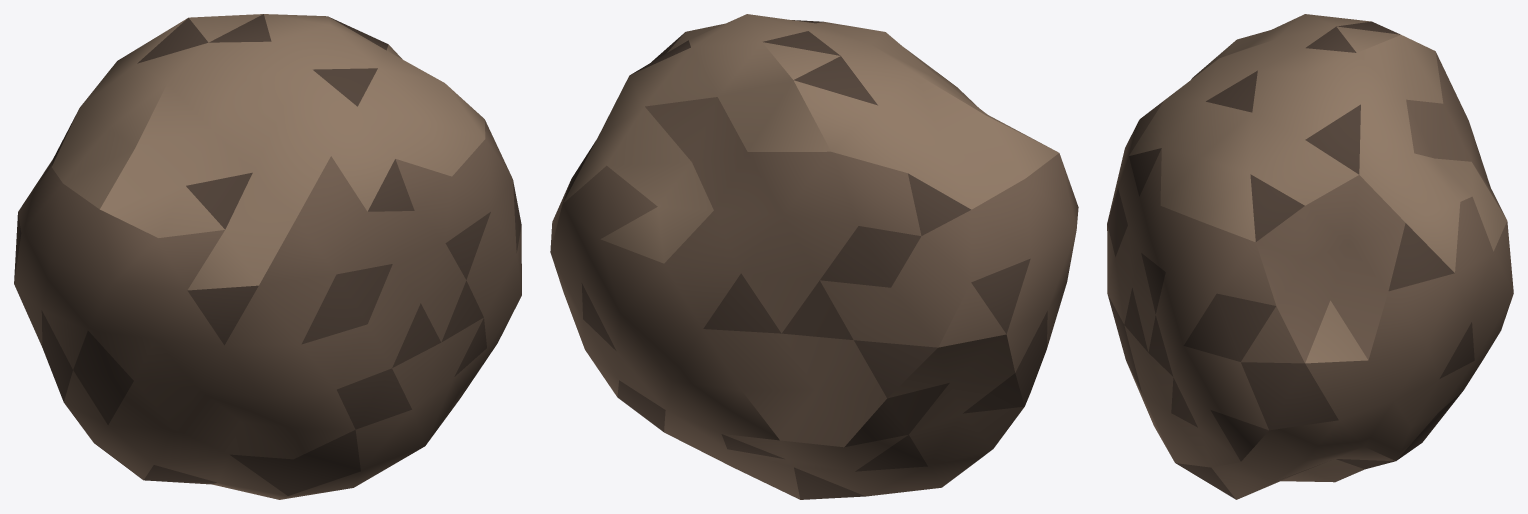
Rendered from asteroid_a.glb.
3 views of the same model, side by side, from view 1: azimuth 30°, elevation 25°; view 2: azimuth 150°, elevation 25°; view 3: azimuth 270°, elevation 25° (orthographic). The views are drawn at different scales.
Parts seen in each view (by area): view 1: asteroid_a; view 2: asteroid_a; view 3: asteroid_a.
Boxes of the visible parts, box(x1,y1,x2,y2) form: asteroid_a: box(14, 14, 521, 499); asteroid_a: box(550, 14, 1078, 499); asteroid_a: box(1107, 14, 1513, 499).
Bounding box in the file's own units: 3.15 × 2.83 × 2.4.
1 material, 1 textured.
